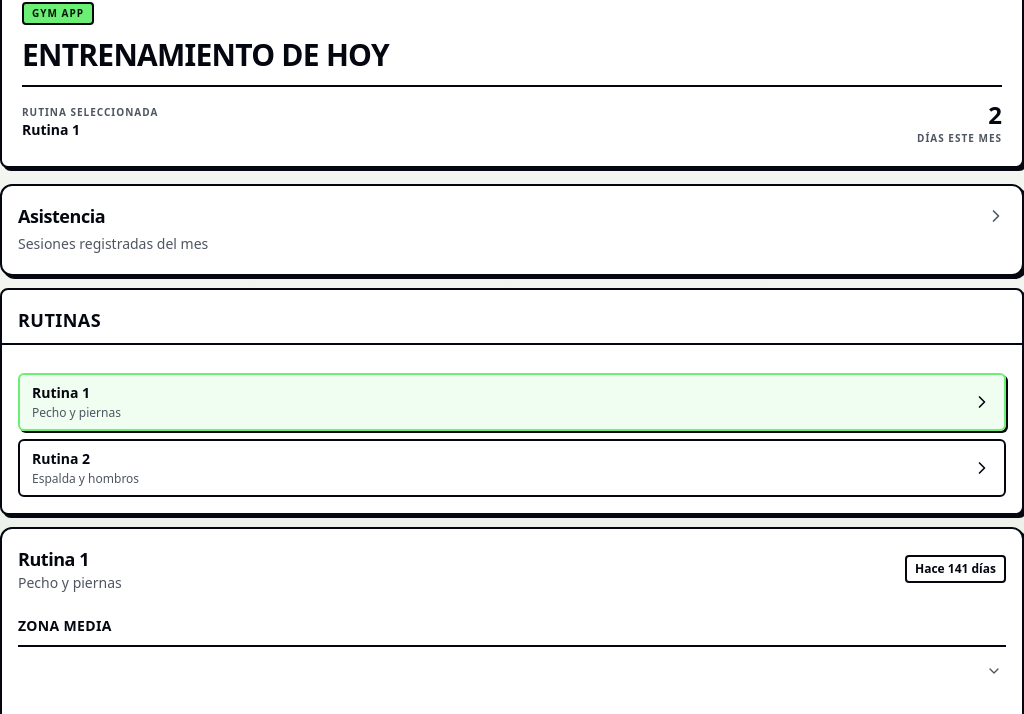
Test: WorkoutApp › keeps drafts separated by routine
Click the button "Rutina 2 Espalda y hombros" at x=61, y=458, box [18,439,1006,497]
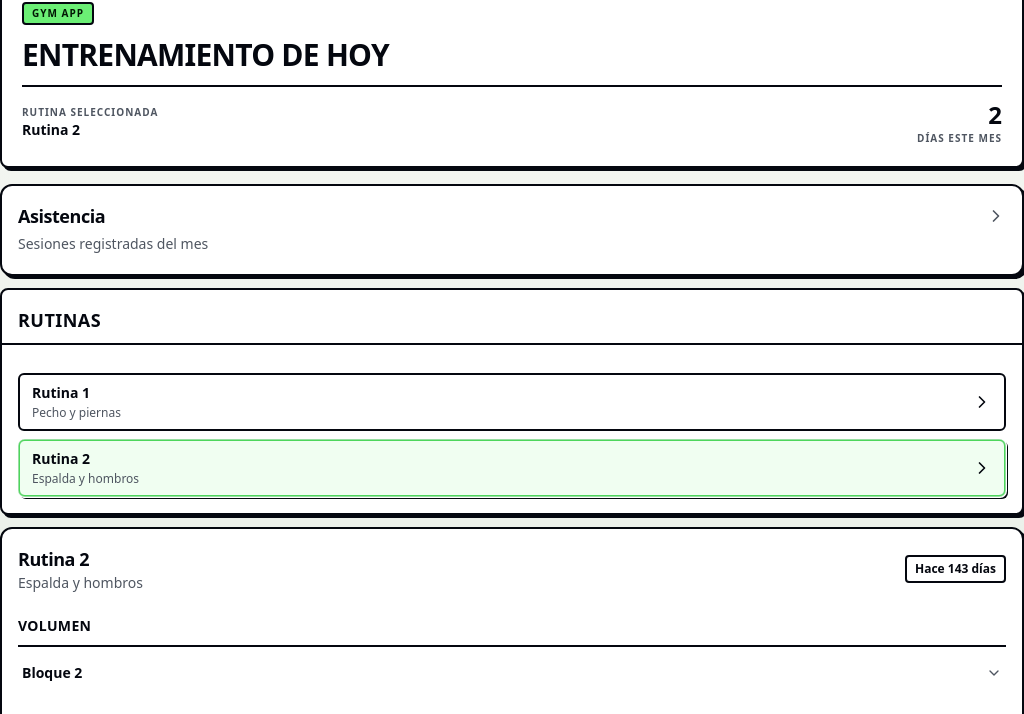
Click the button "Bloque 2" at x=52, y=672, box [18,655,1006,691]
(page scrolled)
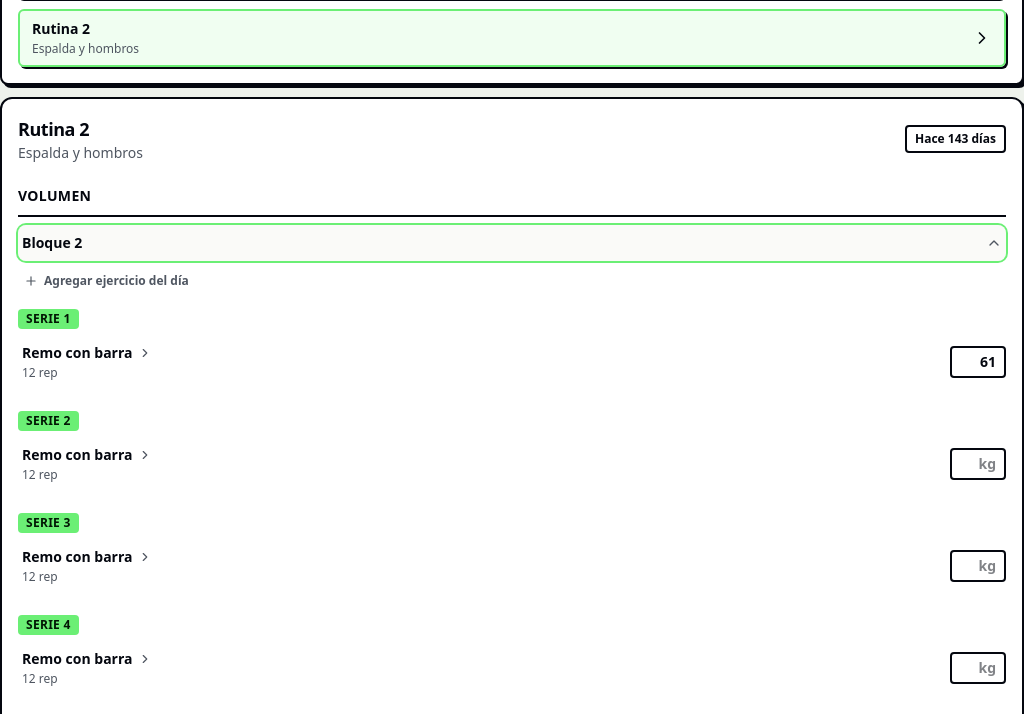
Expected: the field named "Remo con barra serie 1" holds "61", [950,346,1006,378]
